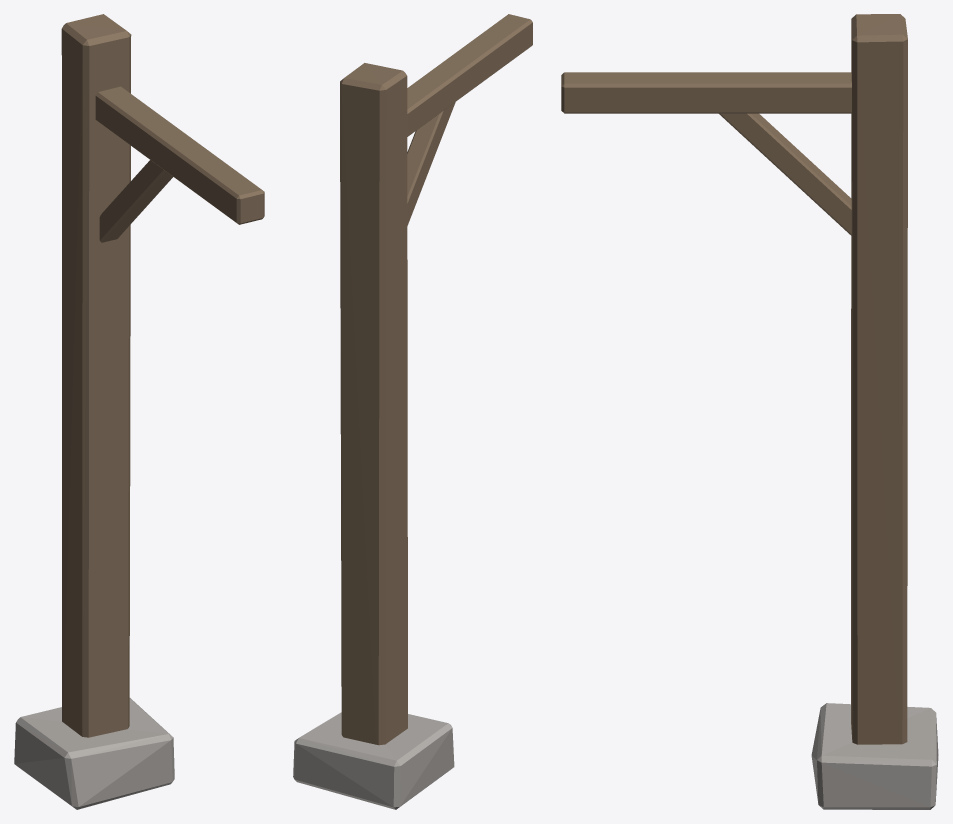
The model's file is post.glb.
3 renders of one model, left to right at view 1: azimuth 30°, elevation 25°; view 2: azimuth 150°, elevation 25°; view 3: azimuth 270°, elevation 25°, orthographic. The views are drawn at different scales.
Parts seen in each view (by area): view 1: wood, stone; view 2: wood, stone; view 3: wood, stone.
Boxes of the visible parts, x1,y1,x2,y2 form: wood: [61, 14, 264, 737]; stone: [14, 698, 174, 809]; wood: [340, 14, 532, 745]; stone: [293, 712, 454, 809]; wood: [561, 14, 907, 744]; stone: [811, 703, 938, 809].
Size of the model in its own units: 0.5432 by 3.31 by 1.49.
